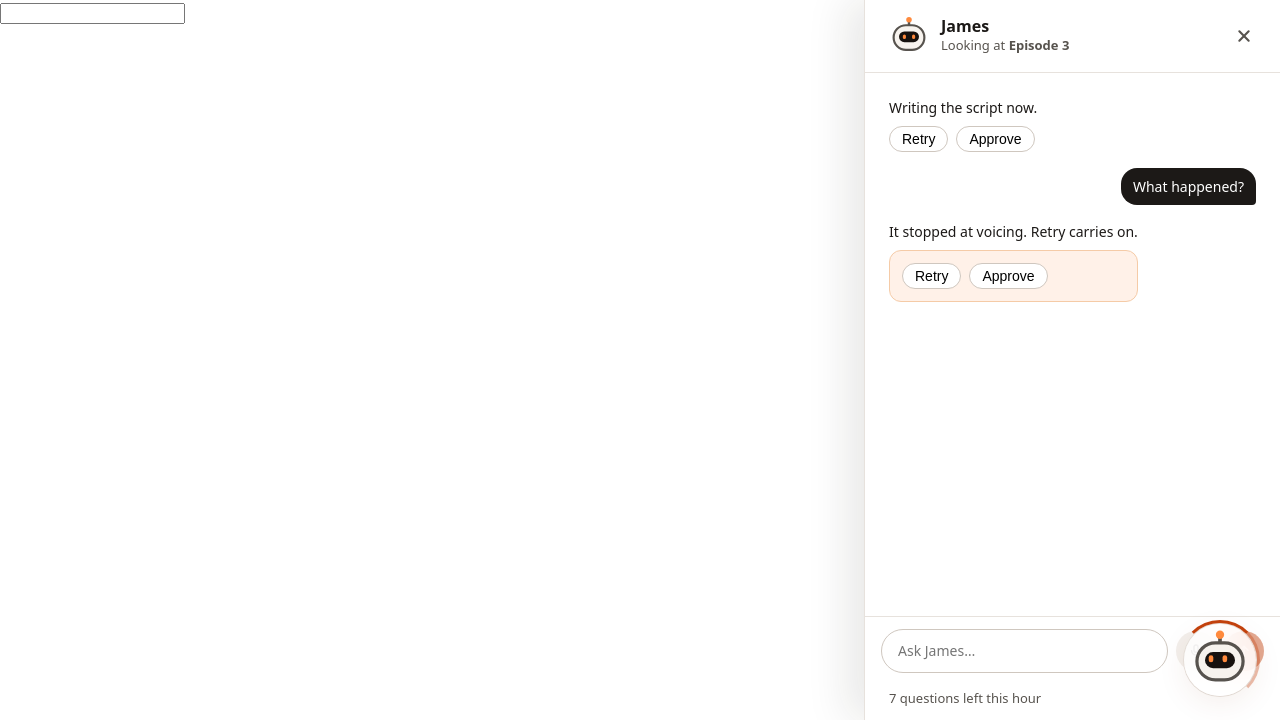
Test: James › answers a question, offering only the page's real actions
The width and height of the screenshot is (1280, 720).
Earlier steps of the test are not shown.
expect the text "It stopped at voicing. Retry carries on." is shown: met, box left=889, top=221, right=1138, bottom=242
expect the text "7 questions left this hour" is shown: met, box left=889, top=688, right=1041, bottom=706
Click the button "Approve" below "It stopped at voicing. Retry carries on.". click: {"x": 1009, "y": 276}
box: left=970, top=263, right=1048, bottom=289
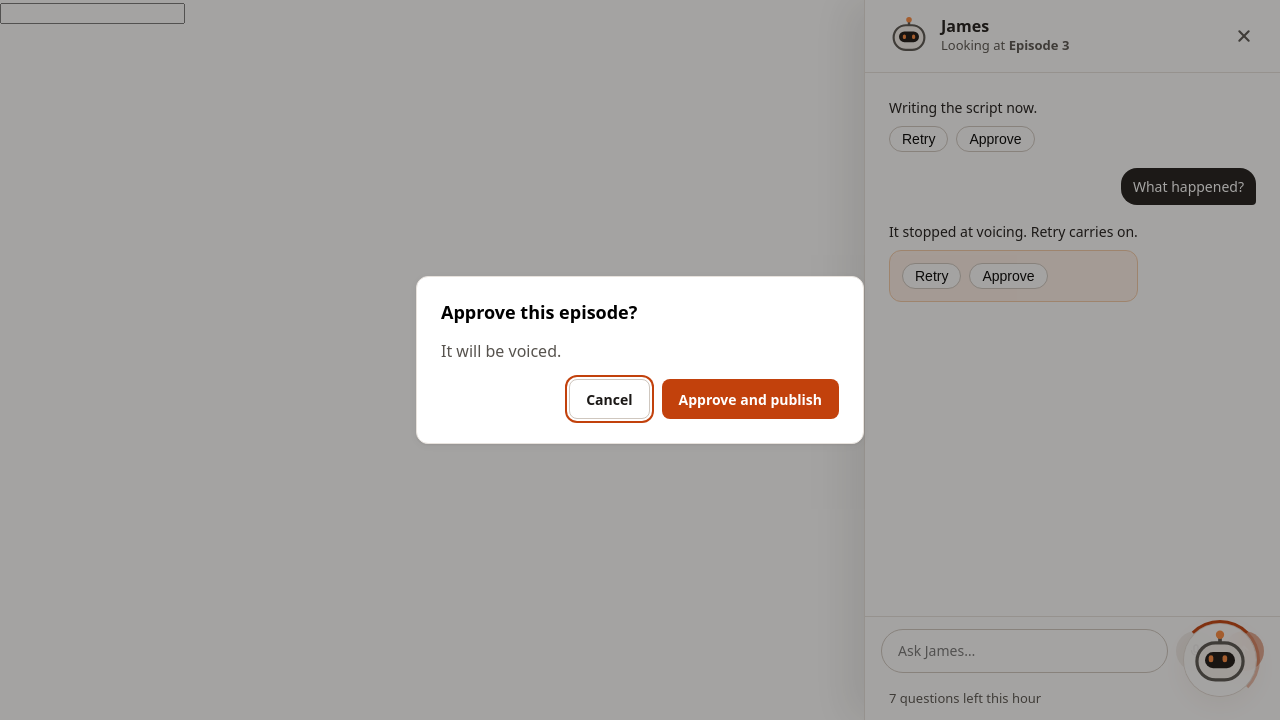
expect the dialog shows "Approve this episode?": met, box left=441, top=300, right=637, bottom=324
